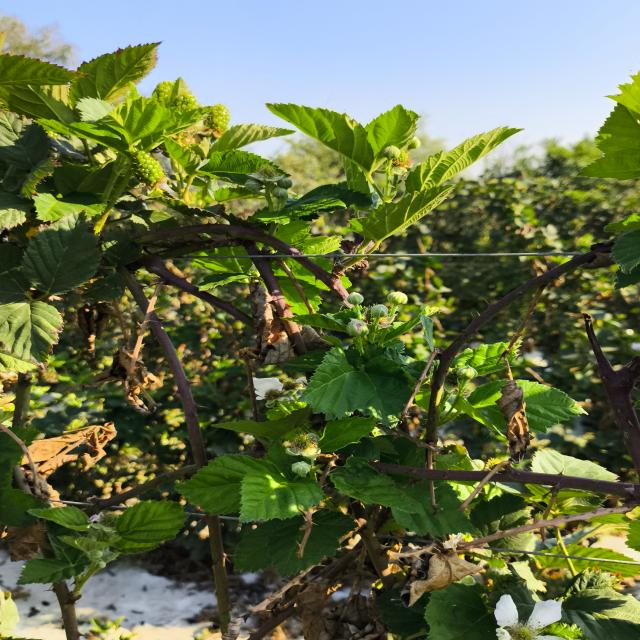boton: (346, 319, 368, 336), (456, 366, 477, 382), (291, 461, 312, 476), (387, 292, 408, 306), (369, 304, 388, 319), (382, 145, 400, 159), (347, 293, 364, 305), (407, 136, 421, 149)
